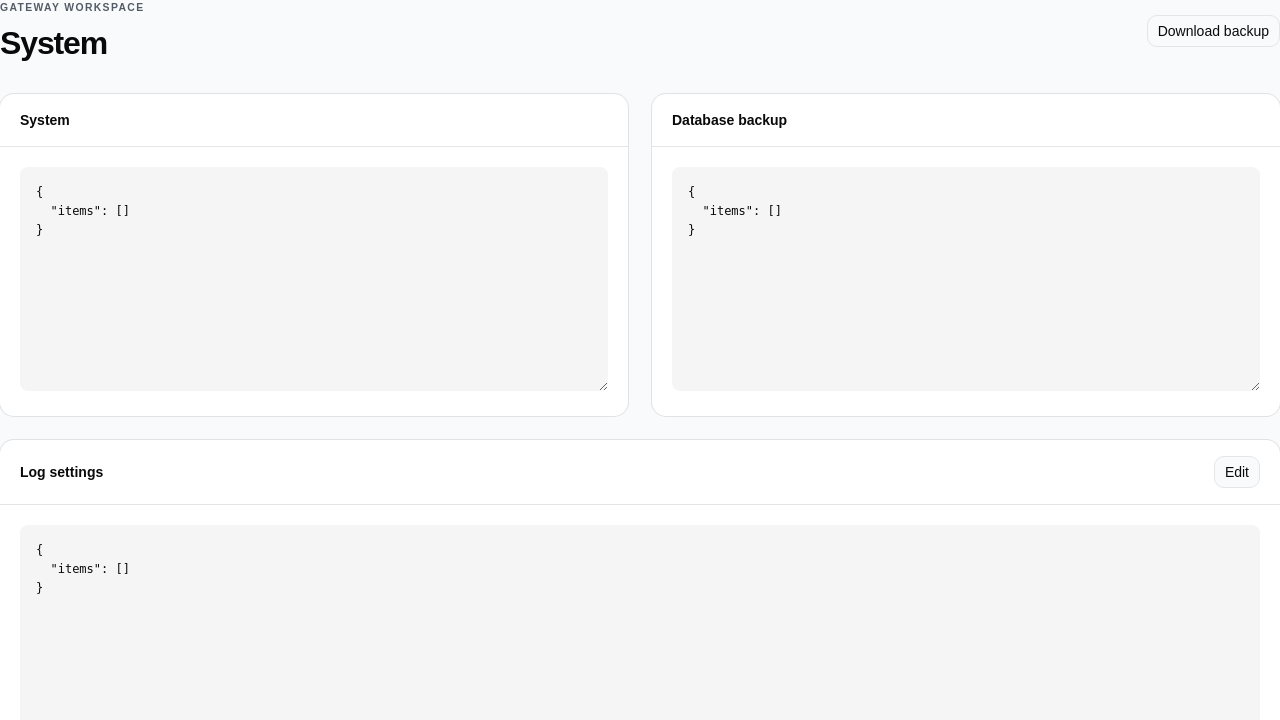
Test: draft ownership › retains system settings while failed writes invalidate queries
Click the button "Edit" at (1237, 472), box [1214,456,1260,488]
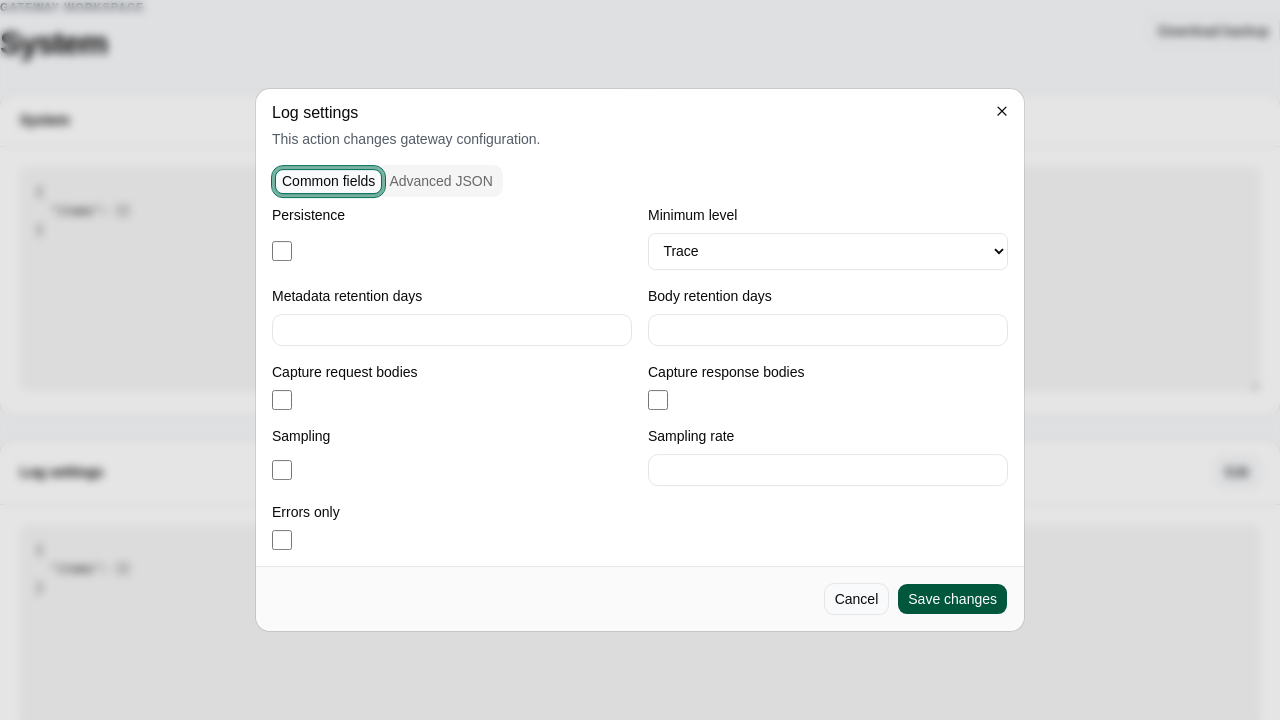
Type "42" into the number field labelled "Metadata retention days" at (452, 330), box [272,314,632,346]
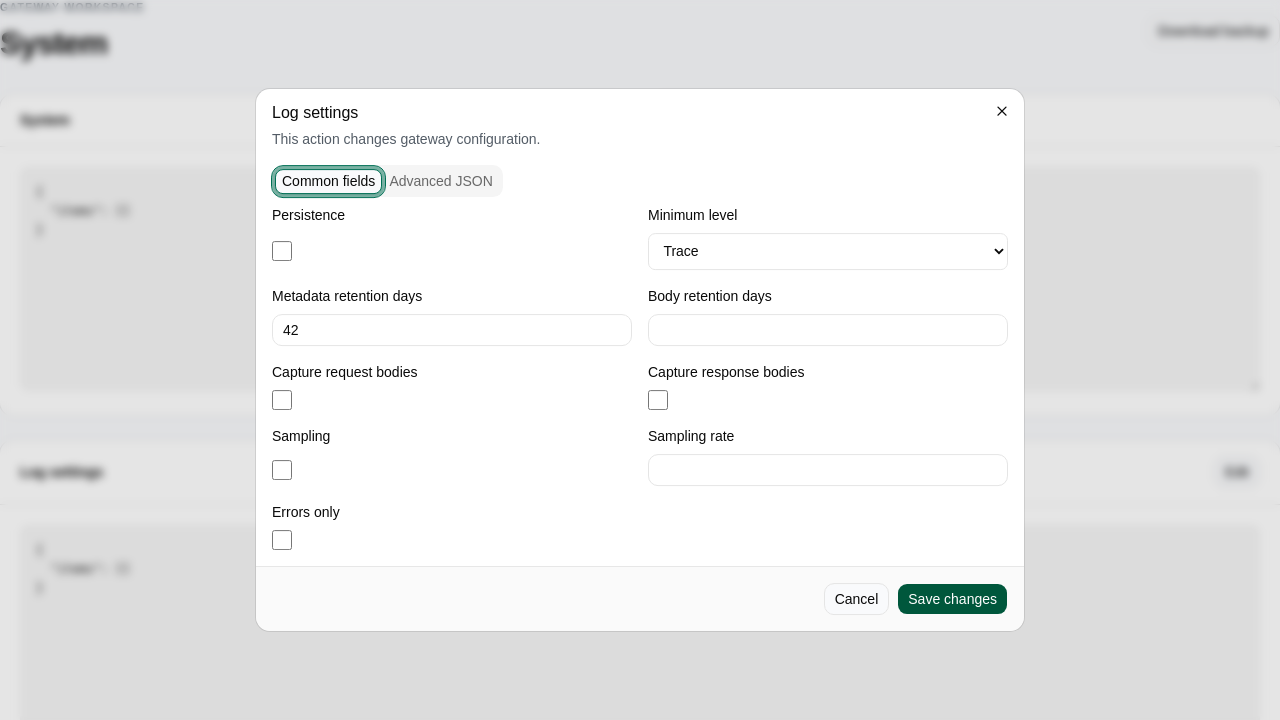
Click the button "Save changes" at (953, 599), box [897,583,1008,615]
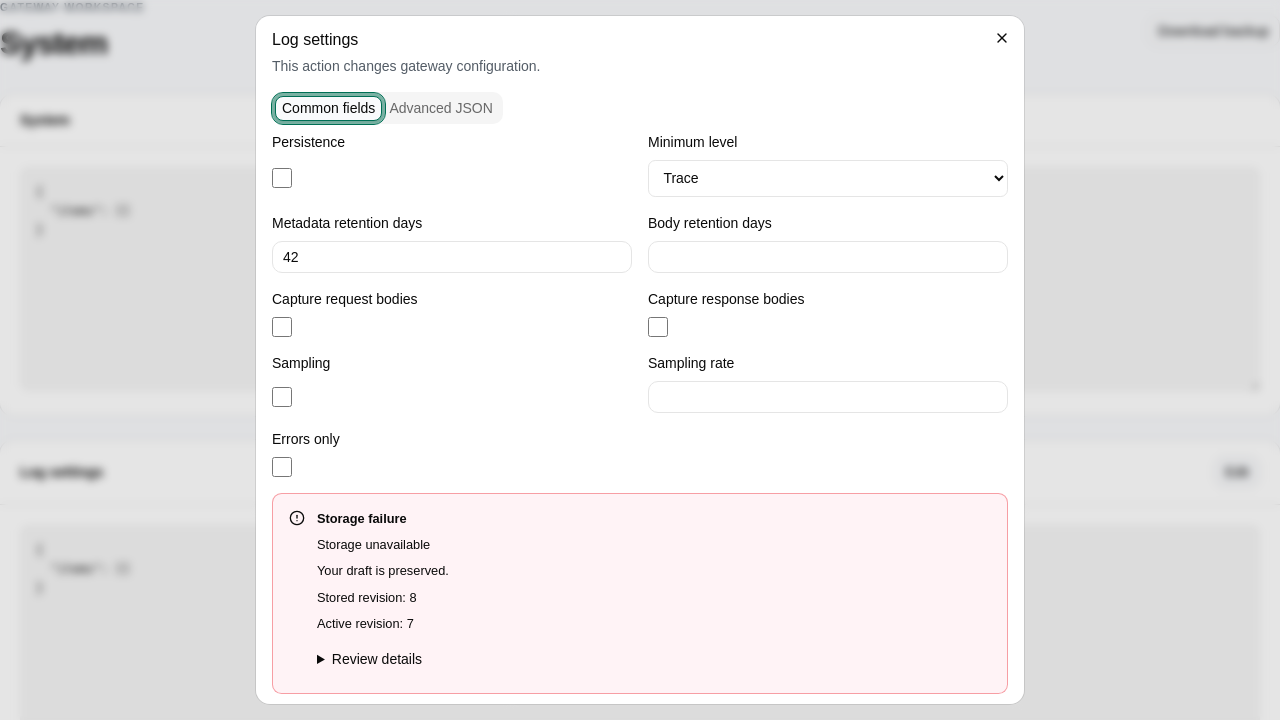
Check: the message shows "Storage unavailable", box [317,537,430,552]
